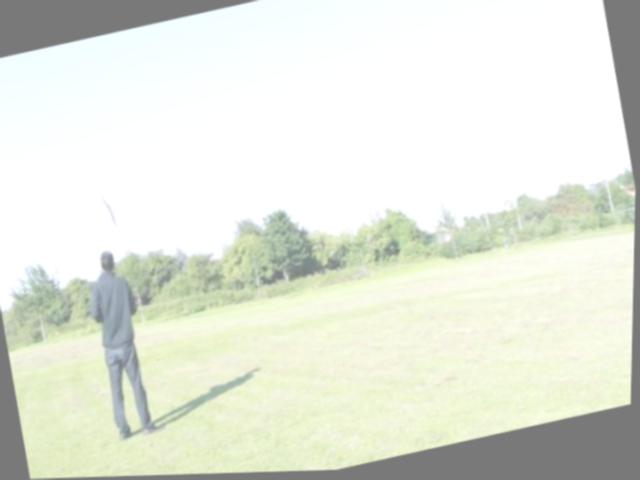flying wing: (99, 194, 121, 229)
